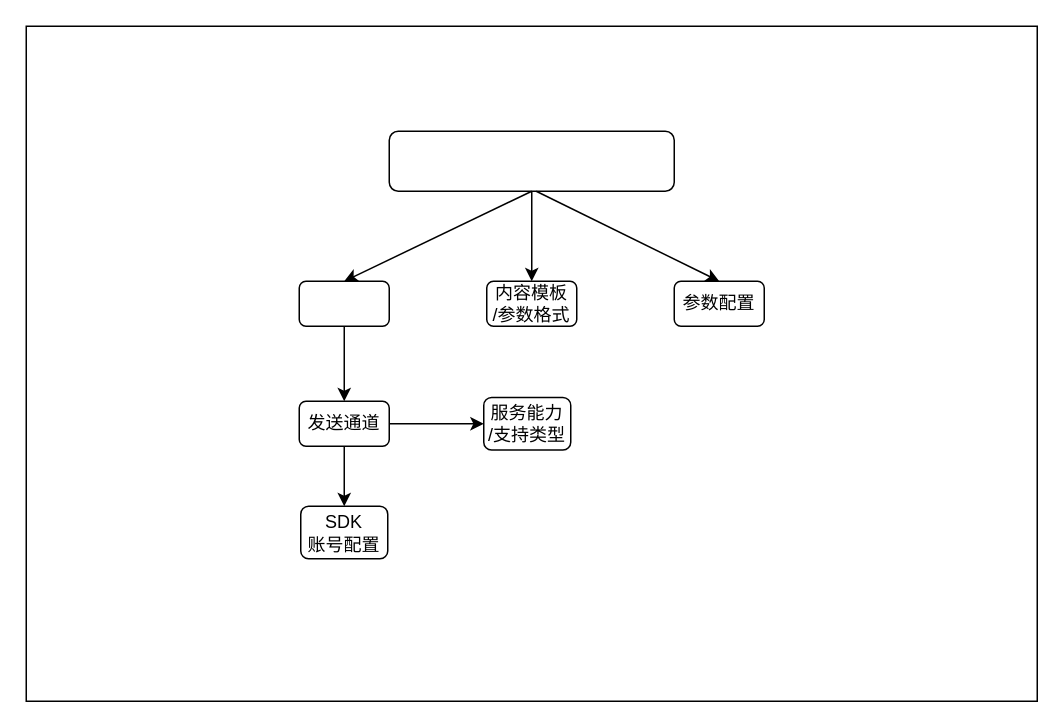
This 1064x728 diagram has some shape labels left out. The shapes that lost their labels are listed below. From the top down, each one's box as (x1, y1, x2, y2) in pixels, then its label:
(388, 130, 674, 191): 消息发送规则配置
(298, 280, 389, 326): 消息类型
